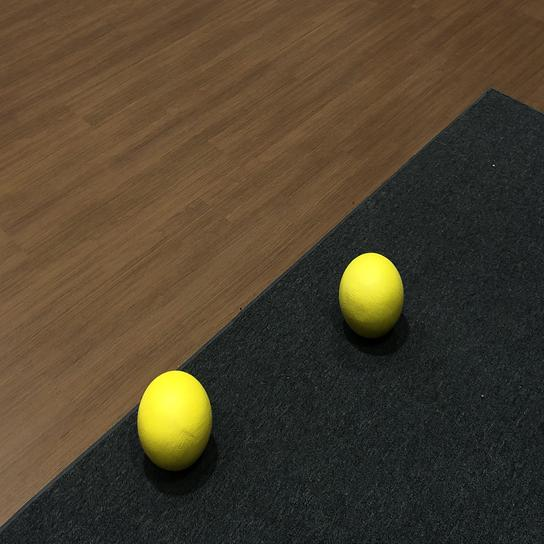ball: (135, 367, 215, 473), (338, 248, 407, 347)
